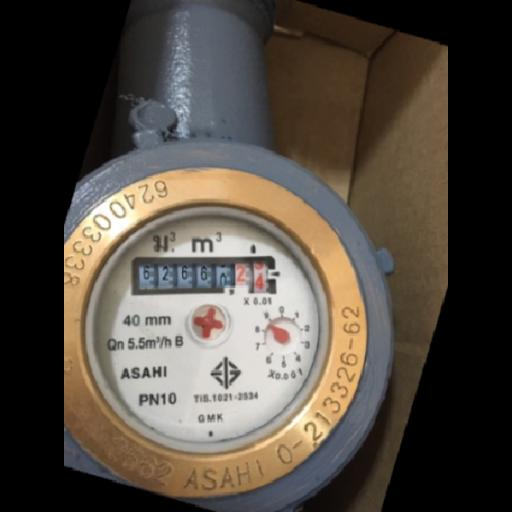0: (218, 265, 231, 287)
2: (159, 265, 173, 288), (236, 264, 248, 287)
4: (254, 261, 267, 291)
6: (139, 264, 153, 288), (197, 264, 211, 286), (179, 265, 192, 288)
border_water_meter_number: (132, 255, 278, 297)
